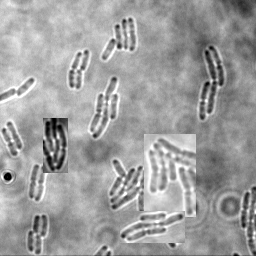Dividing: (67, 52, 81, 89), (1, 128, 18, 157), (34, 166, 47, 202), (28, 164, 39, 200), (239, 192, 249, 229)
Microcolony: (144, 134, 196, 217), (120, 211, 185, 243), (88, 76, 119, 139), (199, 45, 224, 121), (101, 18, 136, 61), (43, 118, 68, 173), (27, 214, 48, 255)
Rod: (5, 121, 23, 150), (16, 78, 34, 99), (79, 50, 89, 72), (73, 69, 82, 90)
